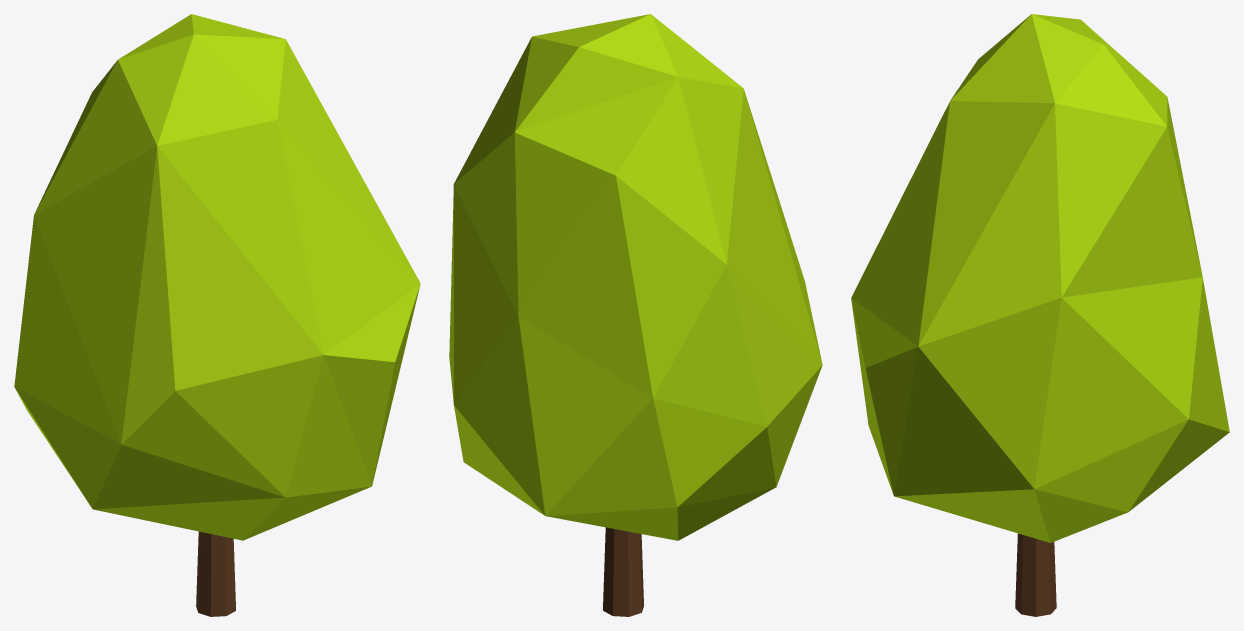
Rendered from SmallTreeC.fbx.
3 renders of one model, left to right at view 1: azimuth 30°, elevation 25°; view 2: azimuth 150°, elevation 25°; view 3: azimuth 270°, elevation 25°, orthographic. The views are drawn at different scales.
Visible parts, largest first — view 1: SmallTreeC_geo; view 2: SmallTreeC_geo; view 3: SmallTreeC_geo.
Part boxes in pixels (left/top/right/bottom): SmallTreeC_geo: left=14, top=14, right=420, bottom=616; SmallTreeC_geo: left=449, top=14, right=822, bottom=616; SmallTreeC_geo: left=851, top=14, right=1229, bottom=616.
Size of the model in its own units: 135 by 221 by 130.
